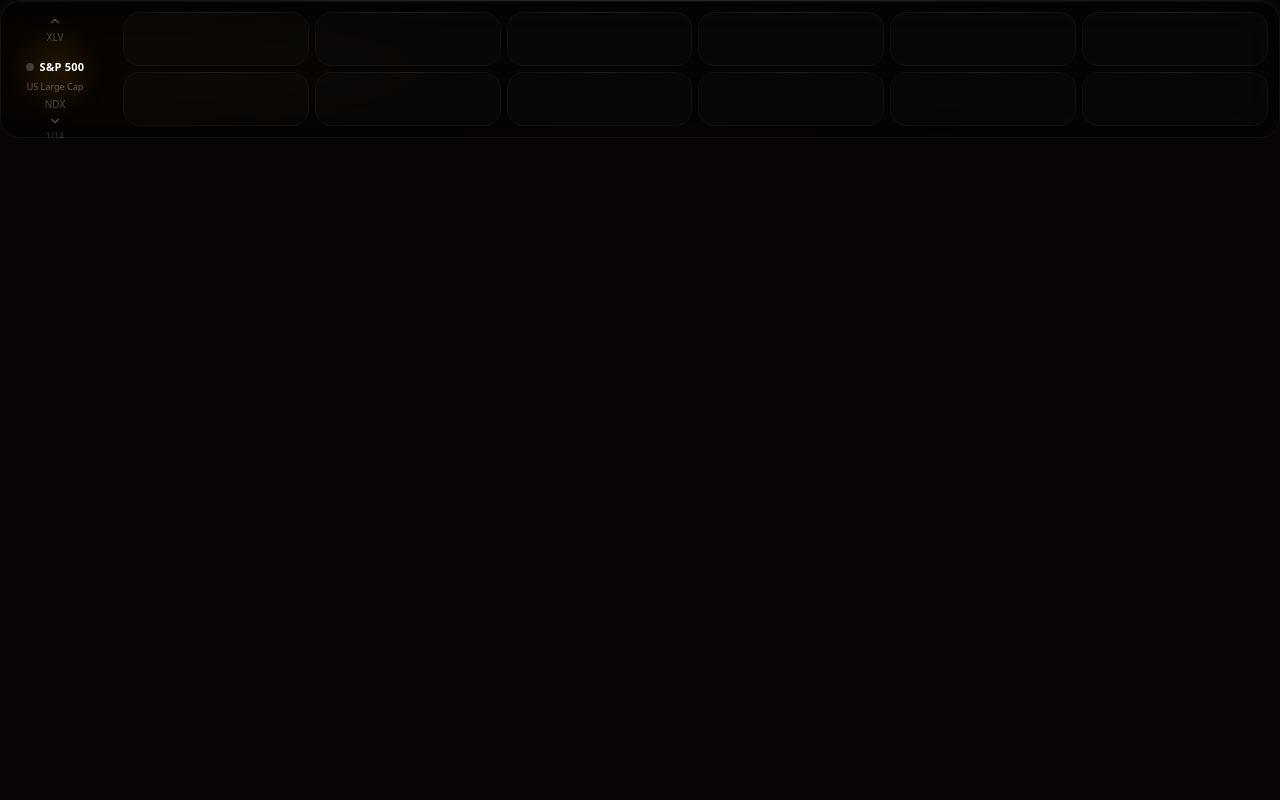
Test case: IndexControlPanel › Navigation › should navigate to next asset
The width and height of the screenshot is (1280, 800).
Click the button named "Next index": (55,121) [46,112,64,130]
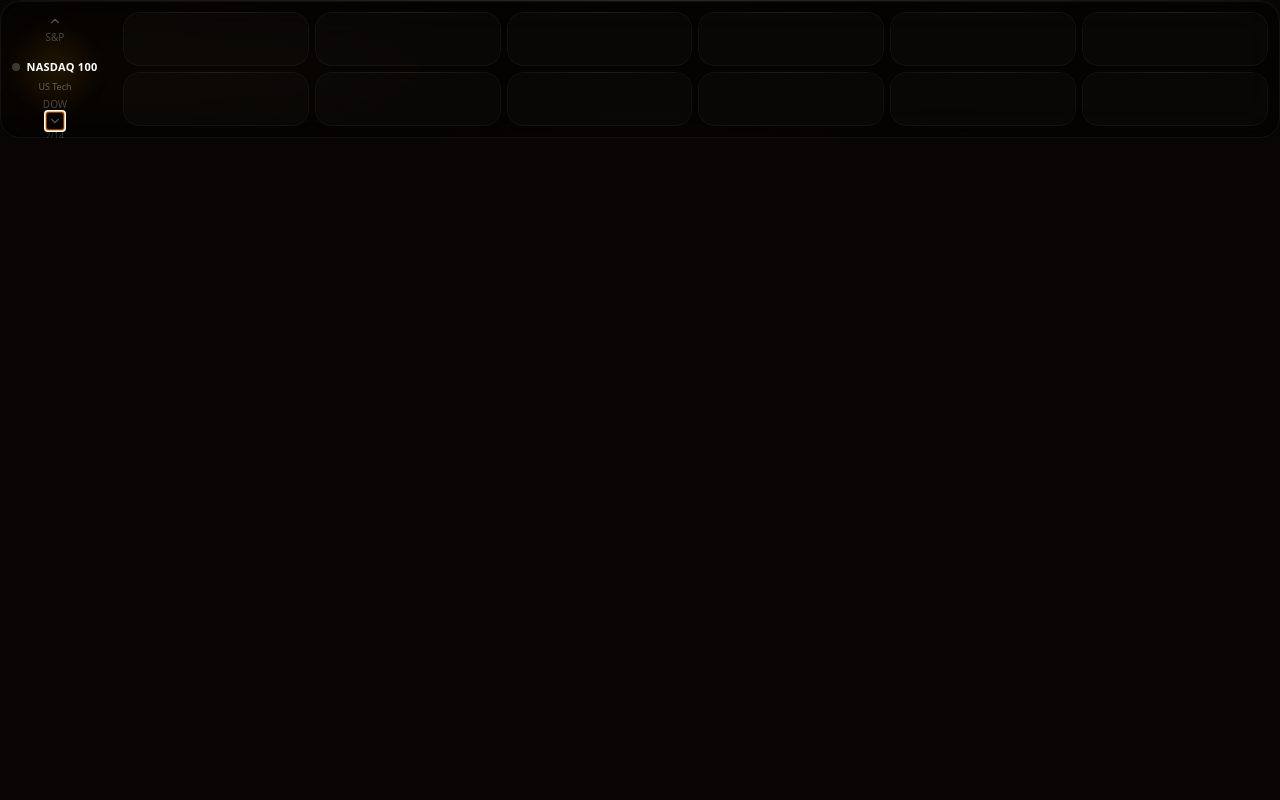
Result: the text "NASDAQ 100" is shown at [26,59,98,76]
